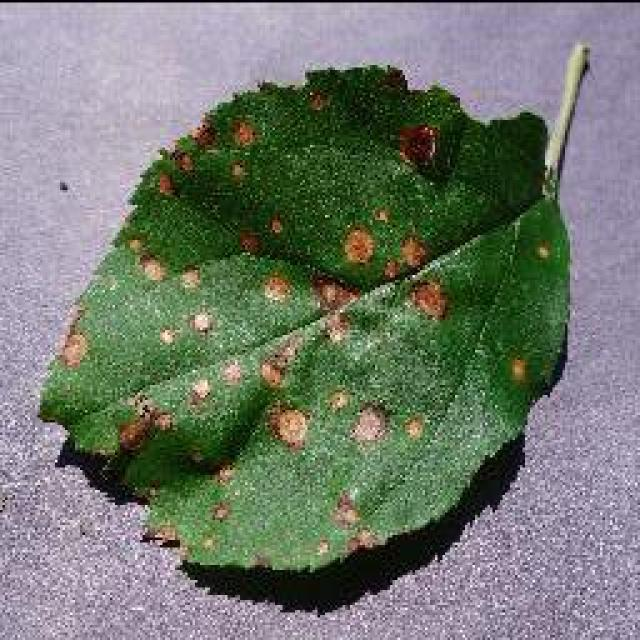apple black rot: (35, 42, 593, 592)
